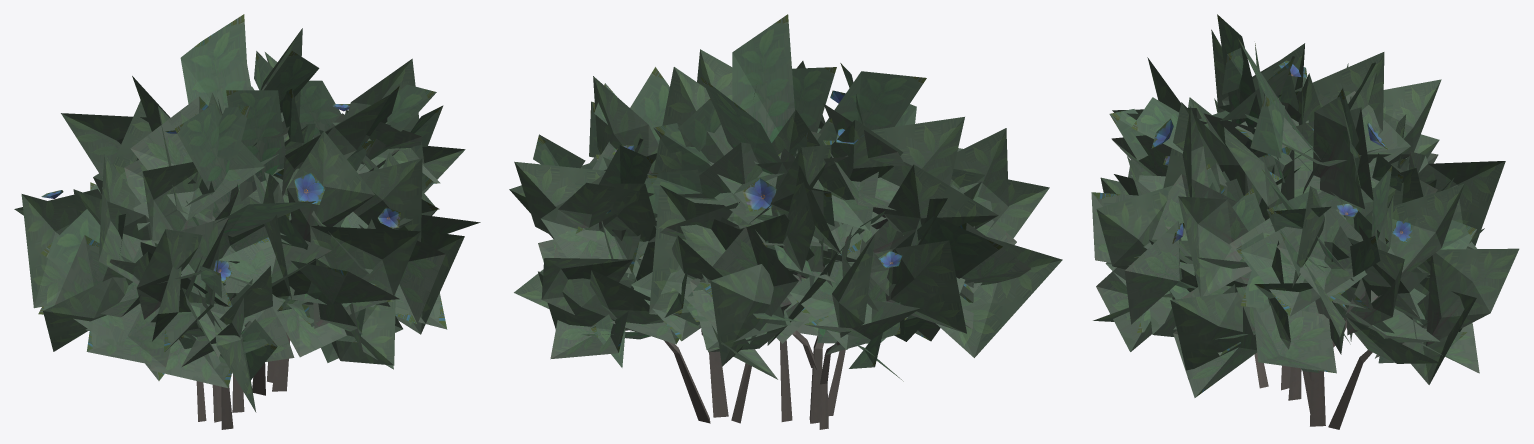
The model's file is P_YueDong01.obj.
3 renders of one model, left to right at view 1: azimuth 30°, elevation 25°; view 2: azimuth 150°, elevation 25°; view 3: azimuth 270°, elevation 25°, orthographic.
Bounding box in the file's own units: 1.63 × 1.2 × 1.24.
1 material, 1 textured.
